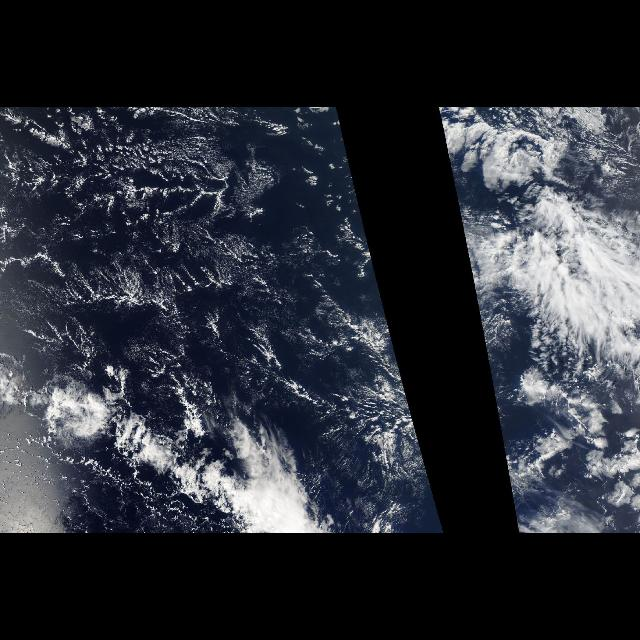Fish: (31, 354, 245, 522)
Sugar: (38, 124, 300, 304)
